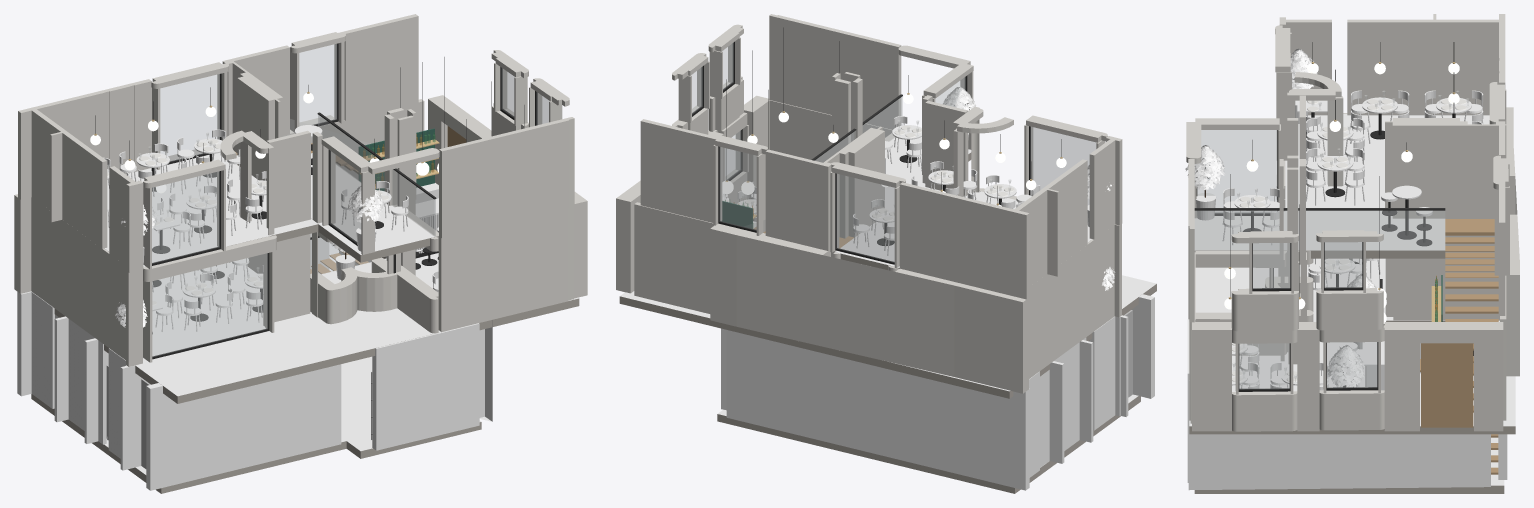
Rendered from interior_LC1.glb.
3 views of the same model, side by side, from view 1: azimuth 30°, elevation 25°; view 2: azimuth 150°, elevation 25°; view 3: azimuth 270°, elevation 25° (orthographic). The views are drawn at different scales.
Visible parts, largest first — view 1: MUROS_LC1.001; view 2: MUROS_LC1.001; view 3: MUROS_LC1.001.
Boxes of the visible parts, x1,y1,x2,y2 form: MUROS_LC1.001: (14,14,587,493); MUROS_LC1.001: (616,14,1156,493); MUROS_LC1.001: (1185,14,1519,493).
Size of the model in its own units: 11.83 by 7.9 by 7.48.
